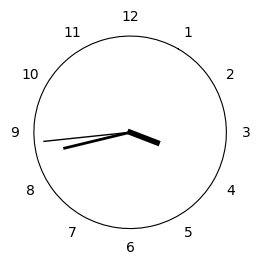12: (122, 9, 139, 22)
circle: (34, 36, 227, 228)
hours: (126, 129, 160, 145)
minutes: (63, 132, 127, 149)
seconds: (43, 134, 127, 140)
